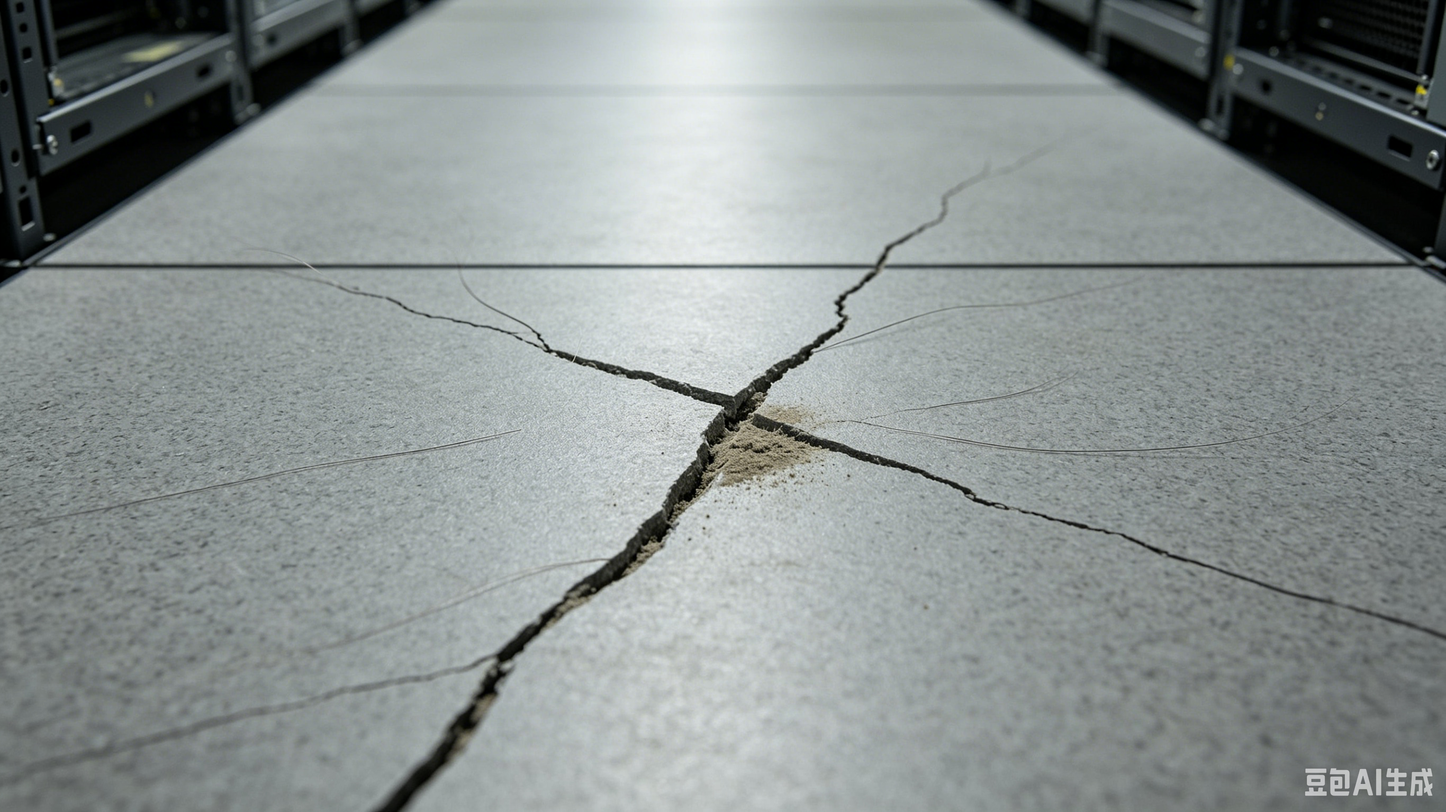floor_defect: (546, 325, 1080, 531), (1086, 506, 1441, 643), (359, 650, 532, 805), (491, 534, 681, 650), (315, 265, 541, 359), (825, 182, 975, 321)
